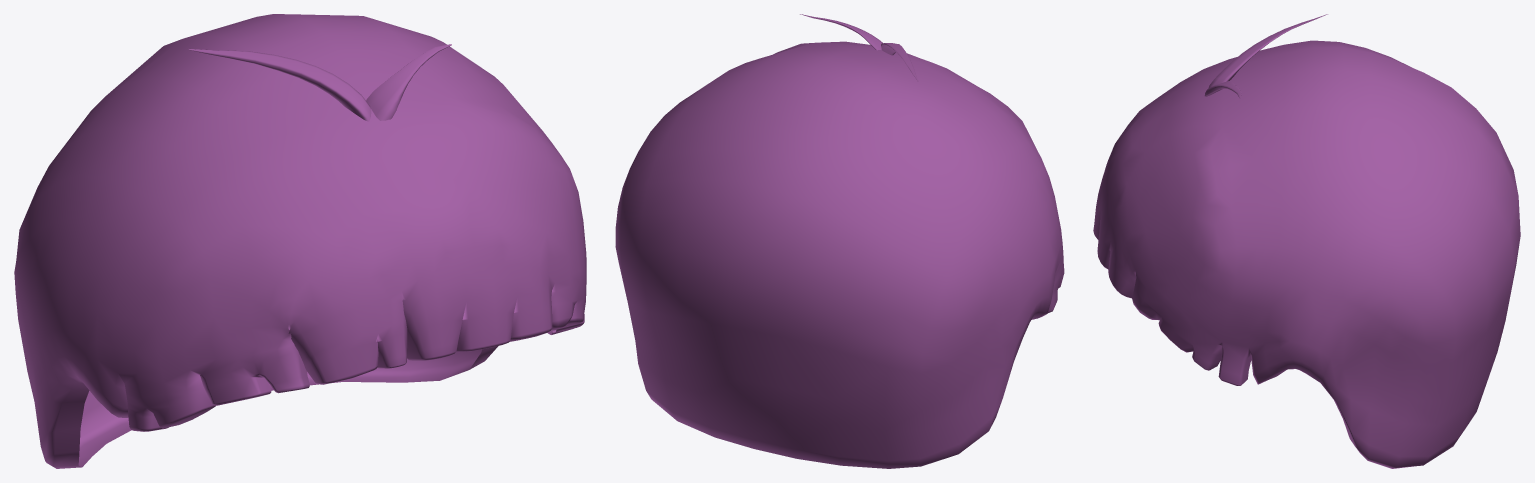
3 renders of one model, left to right at view 1: azimuth 30°, elevation 25°; view 2: azimuth 150°, elevation 25°; view 3: azimuth 270°, elevation 25°, orthographic. The views are drawn at different scales.
Parts seen in each view (by area): view 1: pasted__Mesh; view 2: pasted__Mesh; view 3: pasted__Mesh.
Boxes of the visible parts, x1,y1,x2,y2 form: pasted__Mesh: (14,14,586,468); pasted__Mesh: (615,14,1064,468); pasted__Mesh: (1093,14,1520,468).
Bounding box in the file's own units: 0.9117 × 0.7736 × 0.8584.
